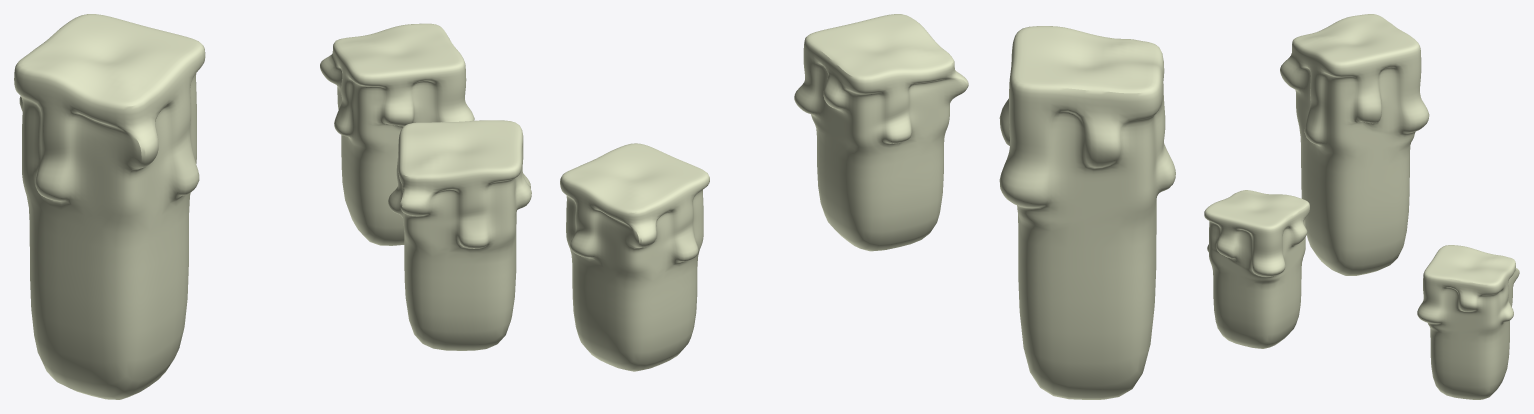
The model's file is candles.fbx.
3 renders of one model, left to right at view 1: azimuth 30°, elevation 25°; view 2: azimuth 150°, elevation 25°; view 3: azimuth 270°, elevation 25°, orthographic. The views are drawn at different scales.
Parts seen in each view (by area): view 1: Candle.002, Candle.003, Candle.001; view 2: Candle.002, Candle.003, Candle.001; view 3: Candle.002, Candle.003, Candle.001.
Part boxes in pixels (x1,y1,x2,y2): Candle.002: (14,14,205,399); Candle.003: (388,120,531,350); Candle.001: (320,23,474,245); Candle.002: (999,26,1175,399); Candle.003: (794,14,968,251); Candle.001: (560,143,709,371); Candle.002: (1280,14,1429,275); Candle.003: (1204,190,1309,348); Candle.001: (1417,245,1519,399).
Bounding box in the file's own units: 101 × 62.86 × 77.62.
